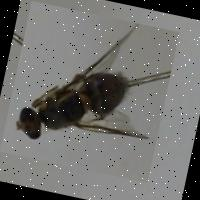Oriental-fruit-fly: (0, 0, 178, 181)
